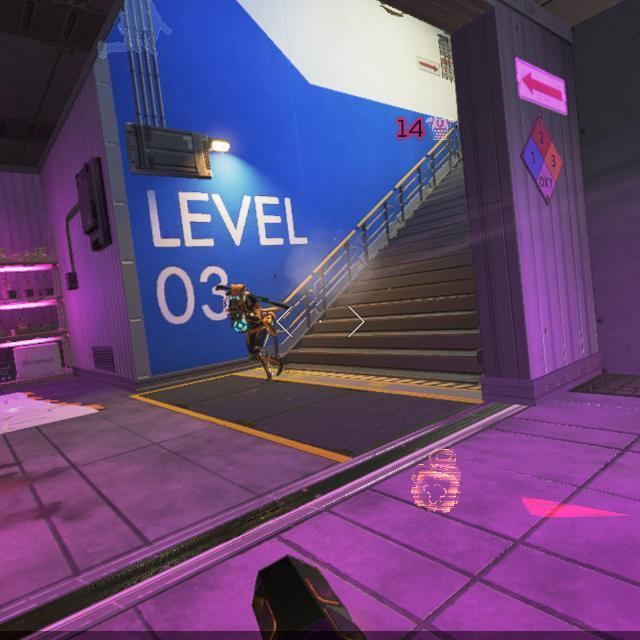avatar: (215, 282, 285, 382)
